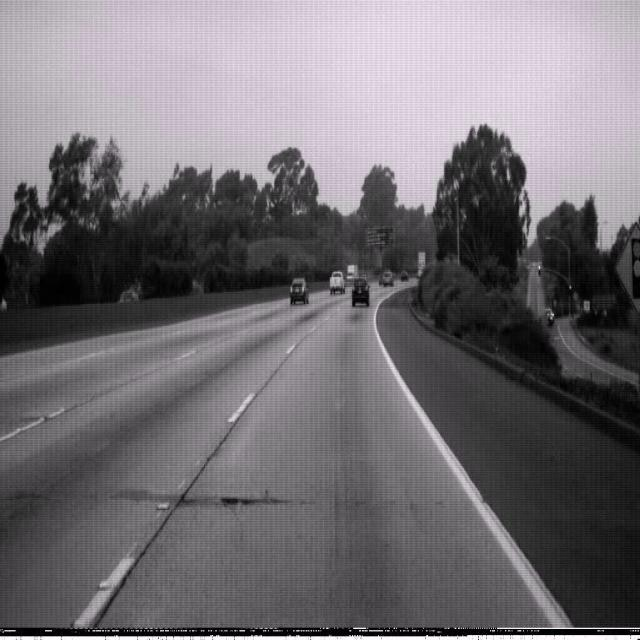speedLimit65: (418, 251, 426, 271)
